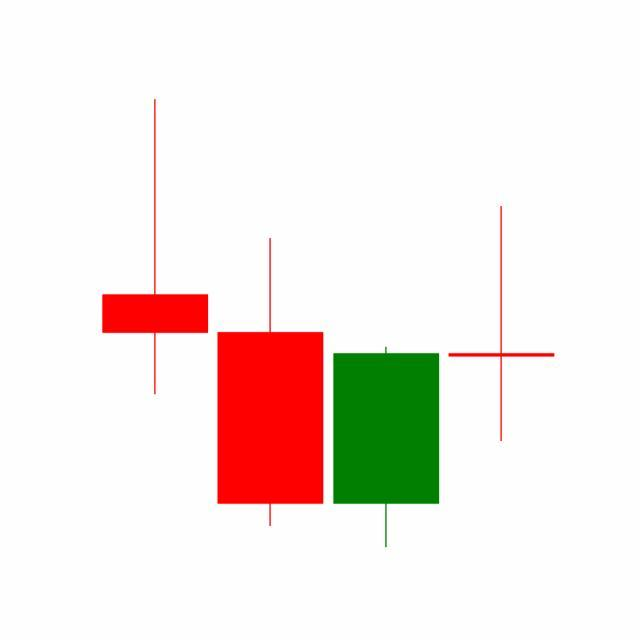Spinning Top: (444, 203, 560, 445)
